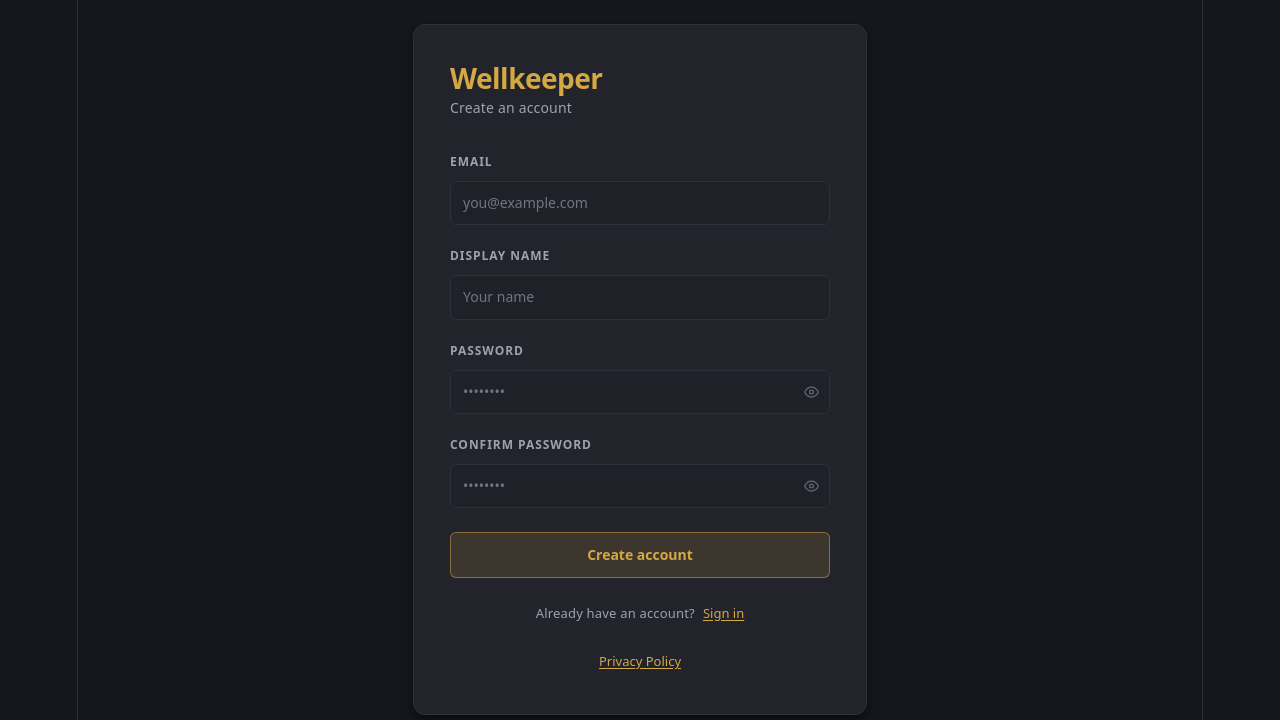
Test case: RegisterPage › shows a client-side error when passwords do not match
This screenshot has width=1280, height=720.
Type "new@example.com" into the field labelled "Email".
click(640, 203); type("new@example.com")  # box [450,181,830,225]
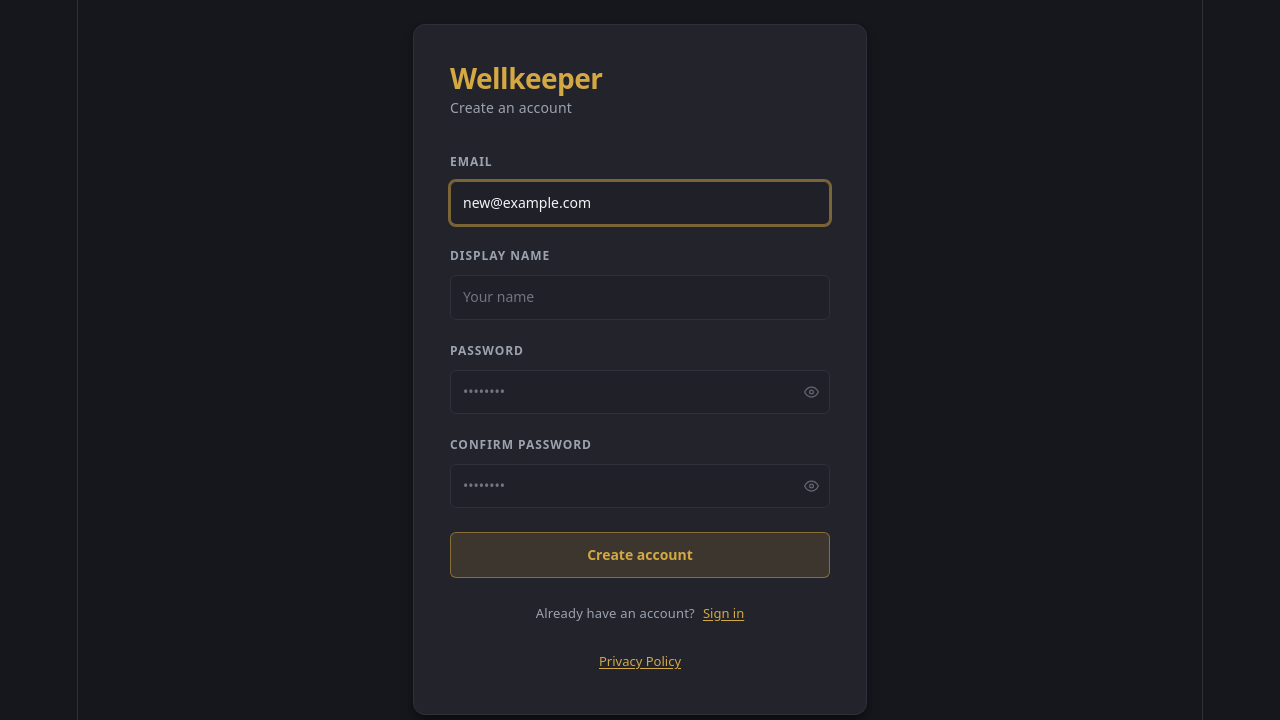
Type "New User" into the field labelled "Display name".
click(640, 298); type("New User")  # box [450,276,830,320]
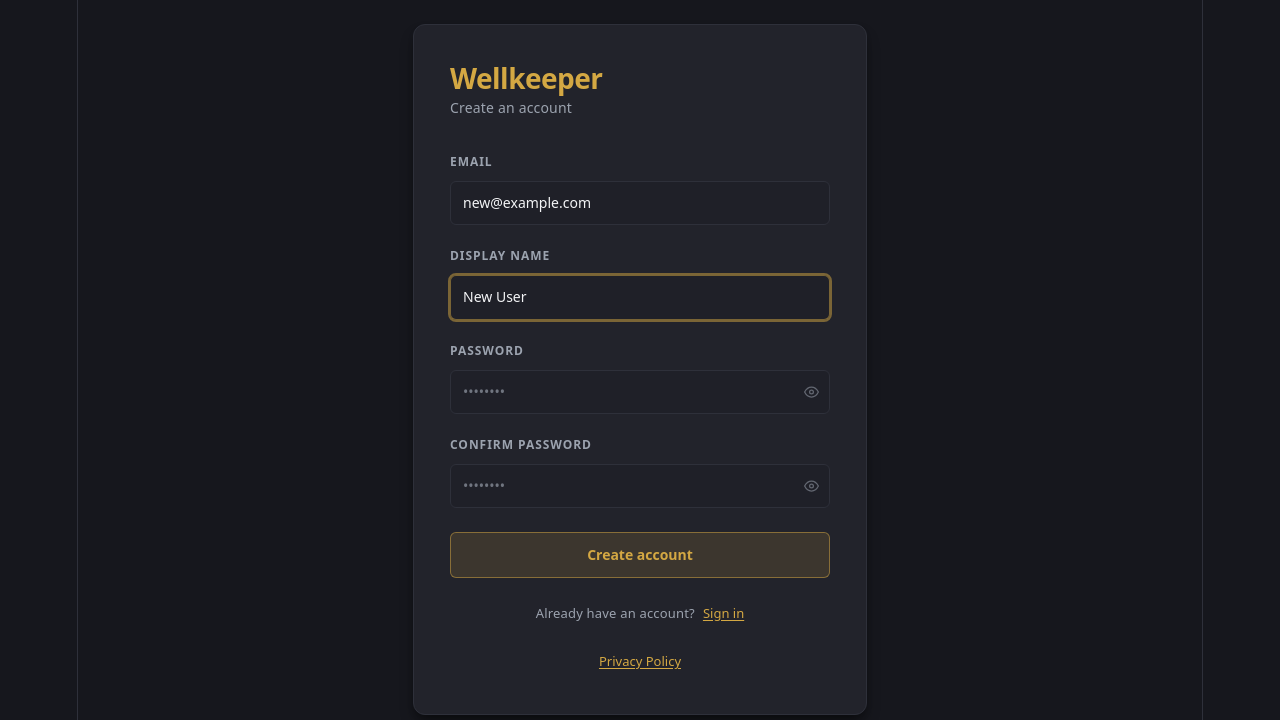
Type "pass123" into the password field labelled "Password".
click(640, 392); type("pass123")  # box [450,370,830,414]
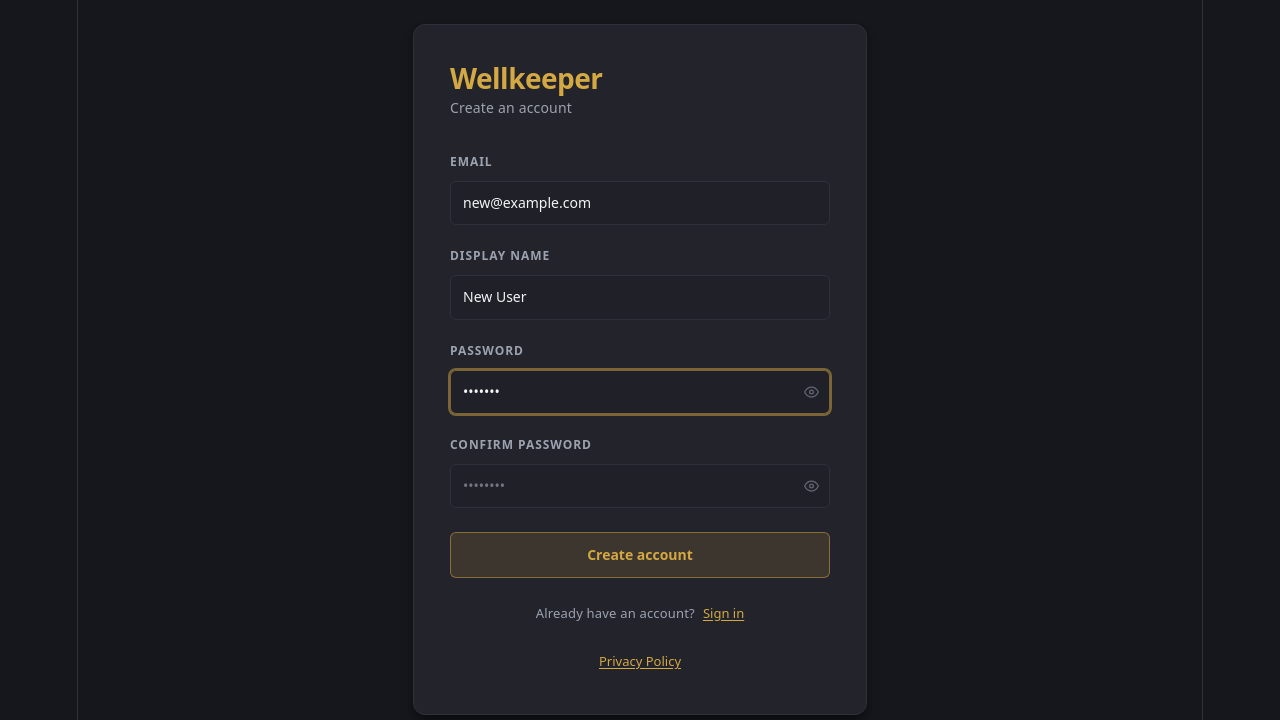
Type "different" into the password field labelled "Confirm Password".
click(640, 486); type("different")  # box [450,464,830,508]
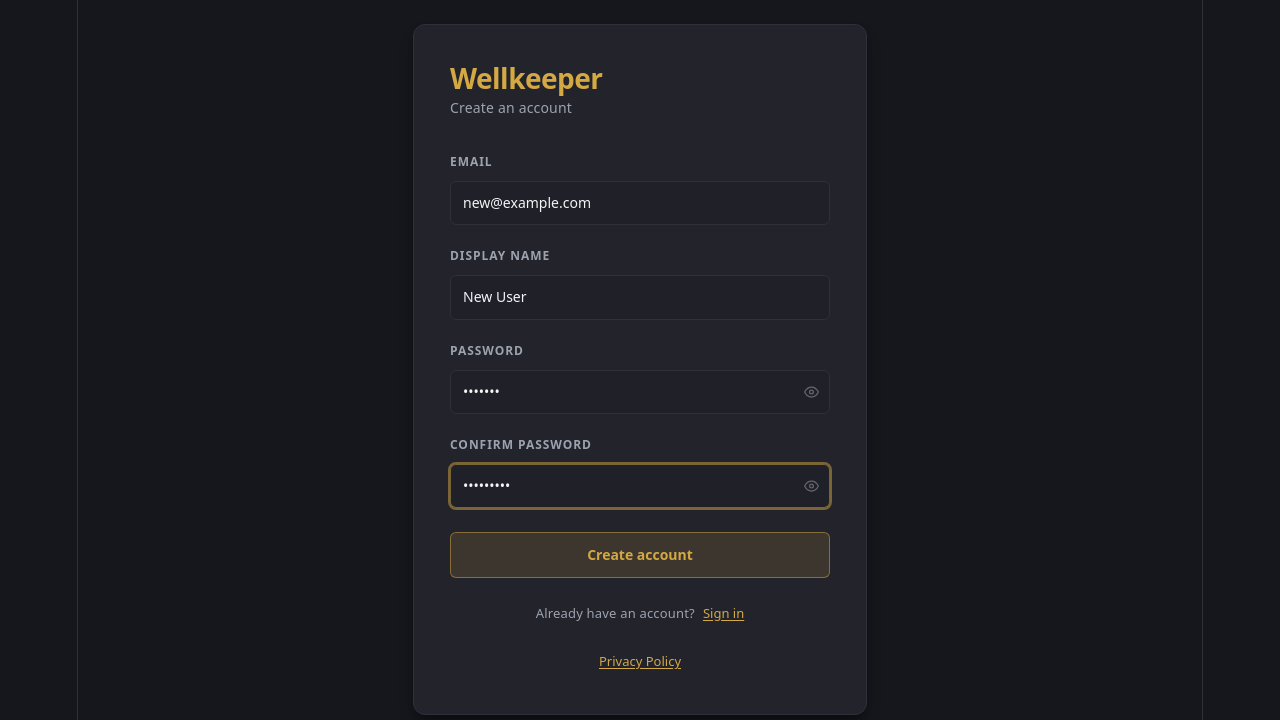
Click the button "Create account".
click(640, 555)  # box [450,532,830,578]
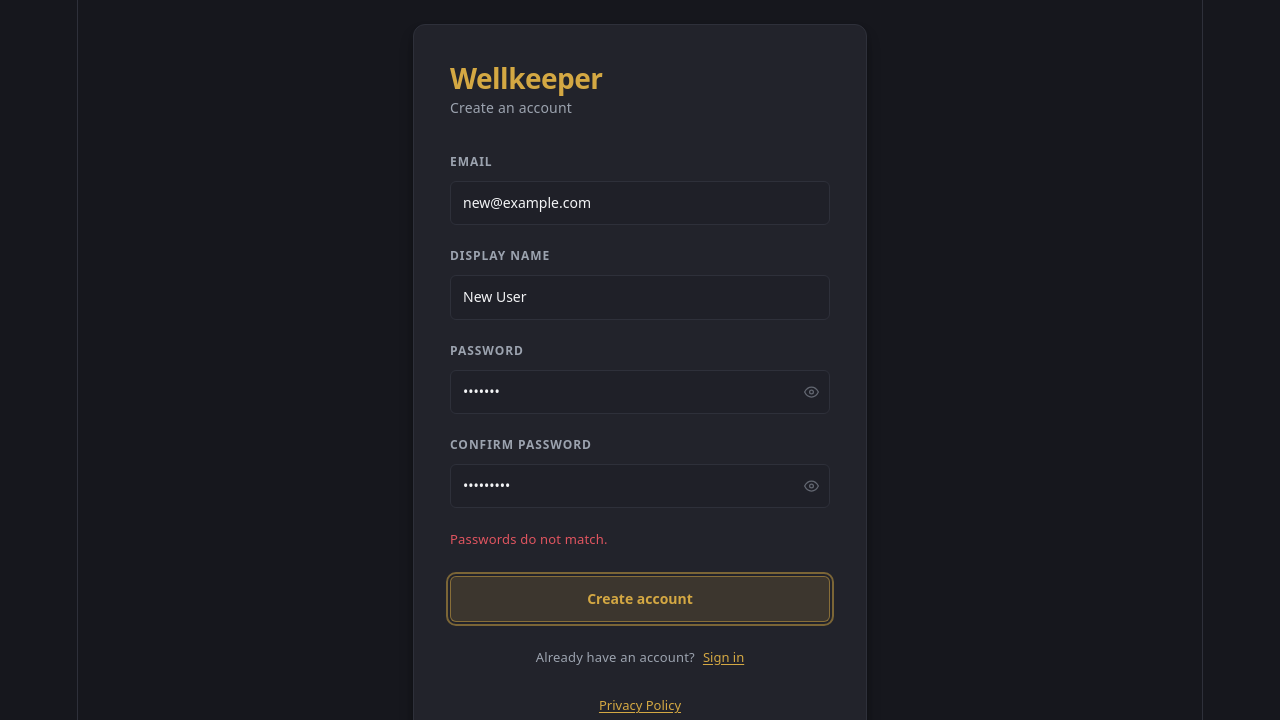
Now the message shows "Passwords do not match", box [450,530,608,548]
